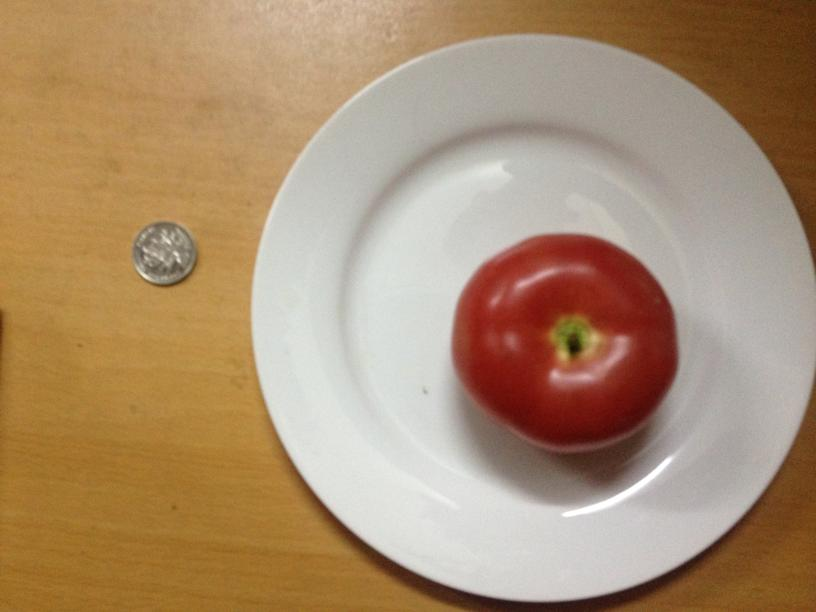coin: (129, 218, 197, 287)
tomato: (445, 228, 679, 456)
